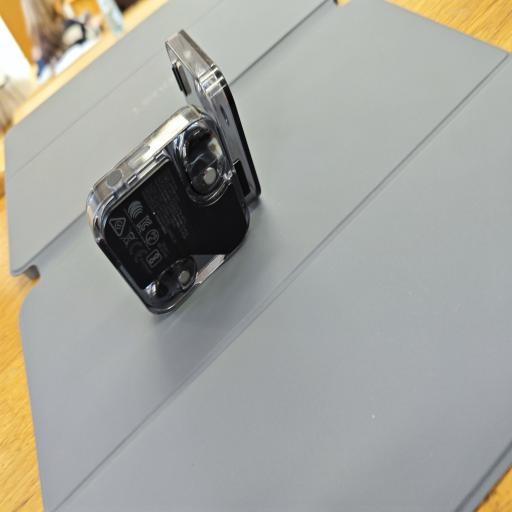Headphones: (83, 24, 265, 322)
